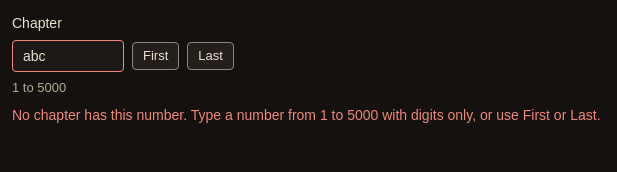
Test case: UnitNumberPicker: First and Last › picks the first unit with First and the last unit of the work with Last
The width and height of the screenshot is (617, 172).
Click the button "First": (156, 56) [132,42,179,70]
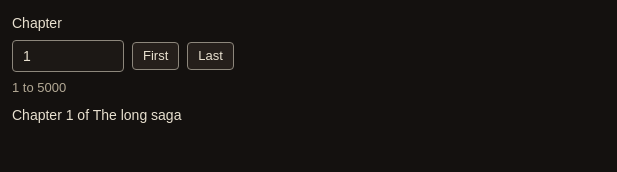
Now the field labelled "Chapter" holds "1", box [12,40,124,72]
Click the button "Last": (211, 56) [187,42,234,70]
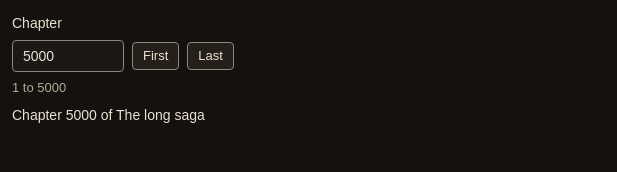
Now the field labelled "Chapter" holds "5000", box [12,40,124,72]
